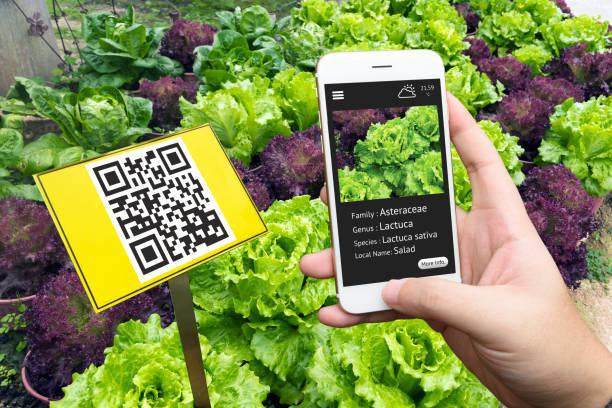Finder pattern: (91, 159, 134, 199), (127, 235, 170, 274), (151, 141, 192, 177)
